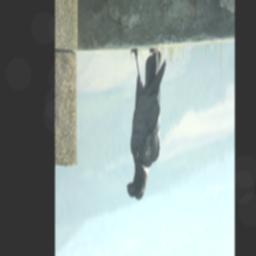Crow: (125, 47, 166, 202)
